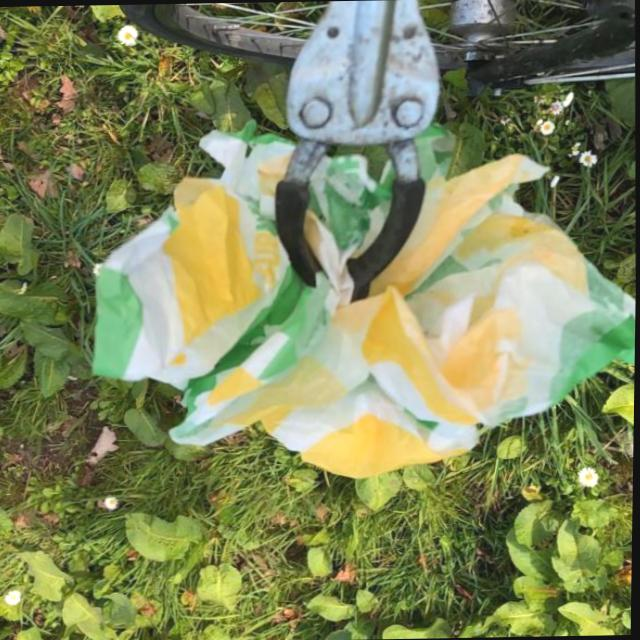Paper: (84, 113, 639, 484)
